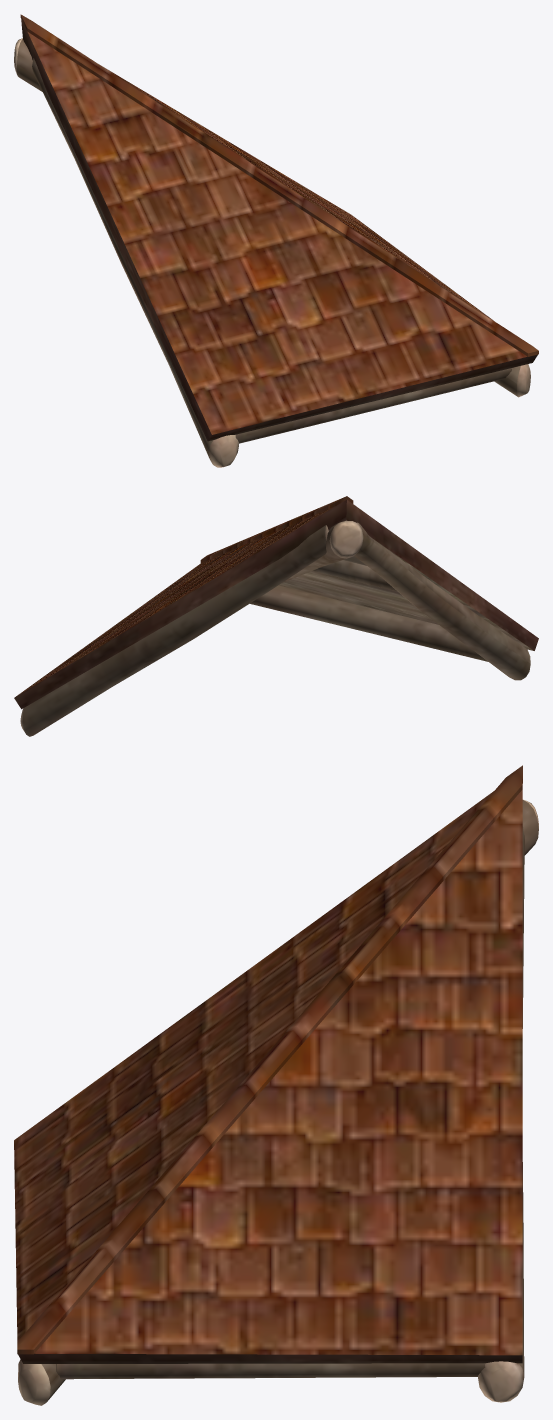
The model's file is SM_RoofCorner_Wood_61415c.glb.
3 views of the same model, one above another, from view 1: azimuth 30°, elevation 25°; view 2: azimuth 150°, elevation 25°; view 3: azimuth 270°, elevation 25° (orthographic). The views are drawn at different scales.
Size of the model in its own units: 4.19 by 3.82 by 4.19.
Materials: 1 (1 with a texture image).
